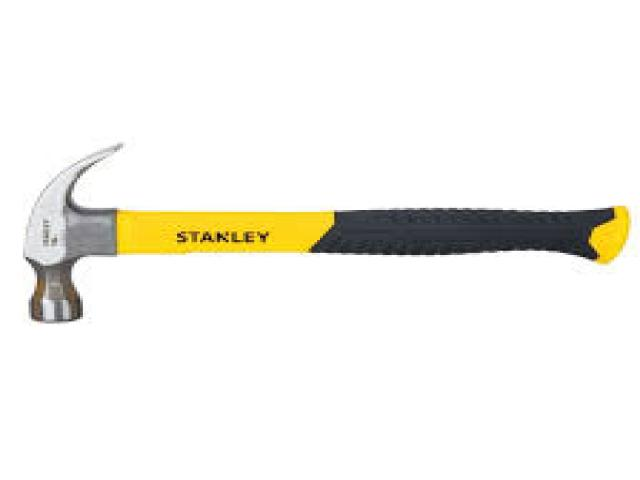Hammer: (24, 143, 629, 322)
